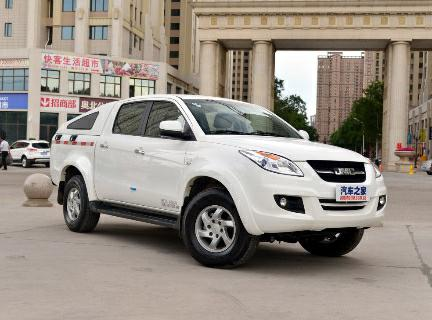江铃-域虎: (45, 91, 399, 267)
